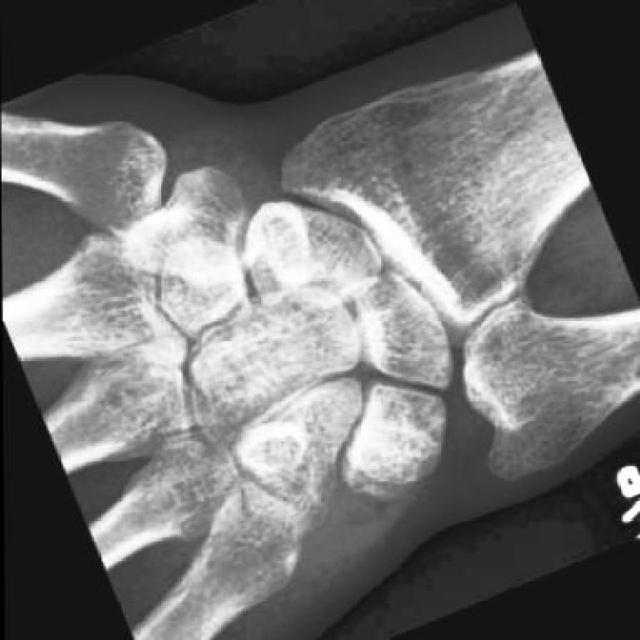Fracture: (219, 416, 343, 550)
